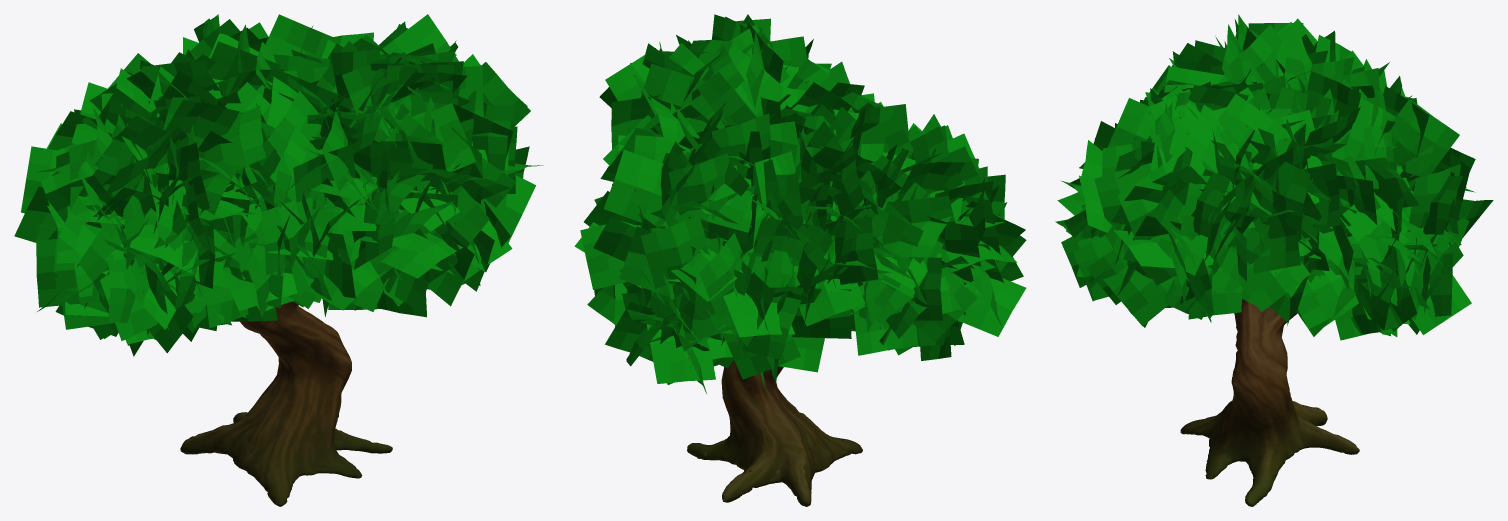
Rendered from tree_1.fbx.
3 renders of one model, left to right at view 1: azimuth 30°, elevation 25°; view 2: azimuth 150°, elevation 25°; view 3: azimuth 270°, elevation 25°, orthographic. The views are drawn at different scales.
Parts seen in each view (by area): view 1: tree_lp.003; view 2: tree_lp.003; view 3: tree_lp.003.
Part boxes in pixels (left/top/right/bottom): tree_lp.003: left=14, top=14, right=543, bottom=506; tree_lp.003: left=574, top=14, right=1026, bottom=506; tree_lp.003: left=1055, top=14, right=1493, bottom=506.
Size of the model in its own units: 1462 by 1318 by 1298.
2 materials, 2 textured.
